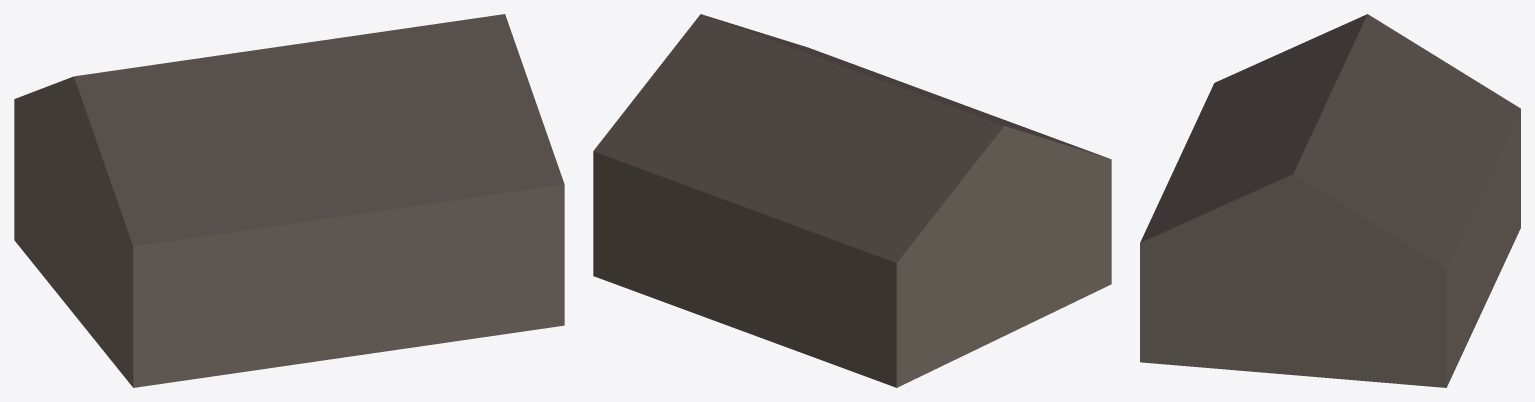
3 renders of one model, left to right at view 1: azimuth 30°, elevation 25°; view 2: azimuth 150°, elevation 25°; view 3: azimuth 270°, elevation 25°, orthographic. The views are drawn at different scales.
Visible parts, largest first — view 1: HP-w859082535; view 2: HP-w859082535; view 3: HP-w859082535.
Part boxes in pixels (x1=…): HP-w859082535: x1=14, y1=14, x2=564, y2=387; HP-w859082535: x1=593, y1=14, x2=1111, y2=387; HP-w859082535: x1=1140, y1=14, x2=1520, y2=387.
Bounding box in the file's own units: 20 × 10.11 × 17.34.
